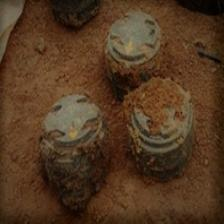M14: (124, 79, 197, 181), (43, 99, 107, 205), (106, 12, 163, 77)
